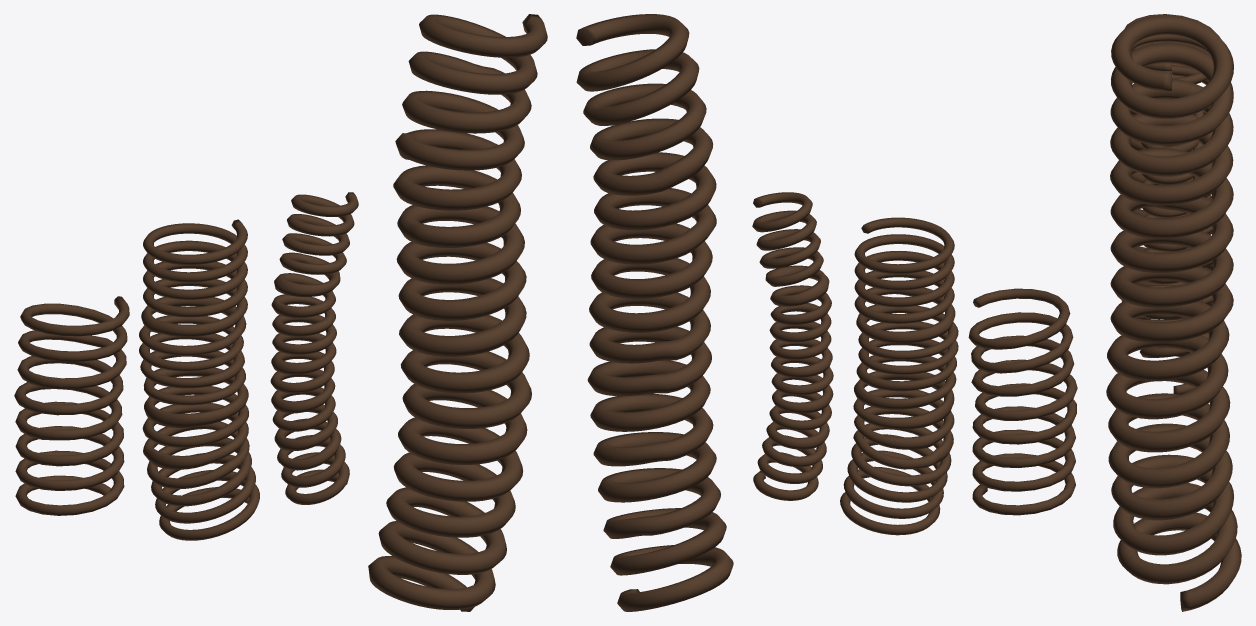
File: Coils.fbx
3 views of the same model, side by side, from view 1: azimuth 30°, elevation 25°; view 2: azimuth 150°, elevation 25°; view 3: azimuth 270°, elevation 25° (orthographic). The views are drawn at different scales.
Visible parts, largest first — view 1: pHelix6, pHelix5, pHelix4, pHelix1; view 2: pHelix6, pHelix5, pHelix4, pHelix1; view 3: pHelix6, pHelix4, pHelix5, pHelix1.
Boxes of the visible parts, left/top/right/bottom form: pHelix6: left=368, top=14, right=547, bottom=611; pHelix5: left=139, top=219, right=259, bottom=540; pHelix4: left=270, top=192, right=358, bottom=504; pHelix1: left=14, top=296, right=129, bottom=515; pHelix6: left=576, top=14, right=733, bottom=611; pHelix5: left=840, top=217, right=958, bottom=535; pHelix4: left=752, top=192, right=833, bottom=500; pHelix1: left=968, top=288, right=1077, bottom=515; pHelix6: left=1106, top=15, right=1241, bottom=611; pHelix4: left=1140, top=110, right=1204, bottom=394; pHelix5: left=1121, top=35, right=1213, bottom=338; pHelix1: left=1125, top=14, right=1220, bottom=234.
Size of the model in its own units: 10.94 by 12.14 by 2.57.
